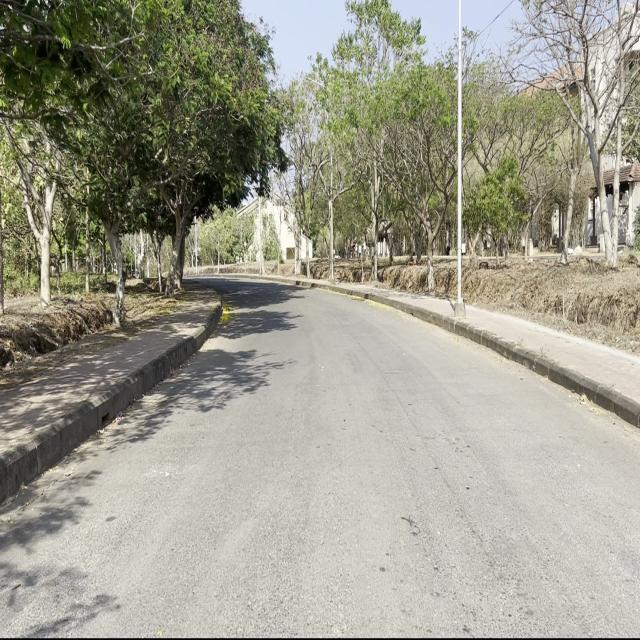Road: (3, 276, 639, 632)
